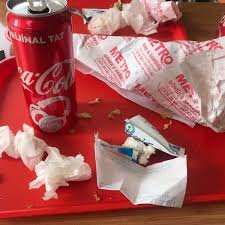metal: (4, 0, 81, 133)
paper: (52, 25, 225, 133), (92, 115, 192, 208), (0, 124, 92, 197), (80, 0, 188, 34)
